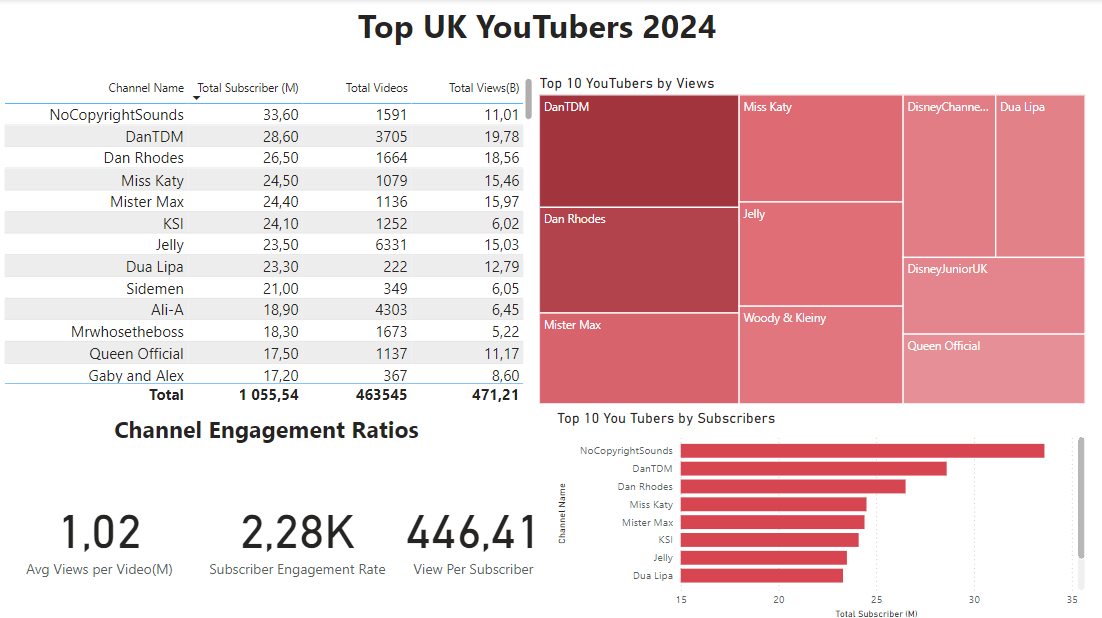

The page's visual inventory and layout, read from the dashboard file:
{"tool":"powerbi","page":{"name":"Page 1","canvas":[1280,720],"ordinal":0},"visuals":[{"type":"textbox","box":[354.5,0,532.4,86.2],"z":0},{"type":"tableEx","fields":{"Values":["view_uk_youtubers_2024.channel_name","view_uk_youtubers_2024.Total Subscriber (M)","view_uk_youtubers_2024.Total Videos","view_uk_youtubers_2024.Total Views"]},"box":[0,86.5,620.4,385.7],"z":1000},{"type":"treemap","title":"Top 10 YouTubers by Views","fields":{"Group":["view_uk_youtubers_2024.channel_name"],"Values":["view_uk_youtubers_2024.Total Views(B)"]},"box":[618.9,86.5,639.4,385.7],"z":2000},{"type":"card","fields":{"Values":["view_uk_youtubers_2024.Avg Views per Video"]},"box":[0,517.7,231.7,202.4],"z":2001},{"type":"card","fields":{"Values":["view_uk_youtubers_2024.Subscriber Engagement Rate"]},"box":[231.7,517.7,224.4,202.4],"z":2002},{"type":"card","fields":{"Values":["view_uk_youtubers_2024.View Per Subscriber"]},"box":[456.1,517.7,183.3,202.4],"z":2003},{"type":"clusteredBarChart","title":"Top 10 You Tubers by Subscribers","fields":{"Category":["view_uk_youtubers_2024.channel_name"],"Y":["view_uk_youtubers_2024.Total Subscriber (M)"]},"box":[639.4,472.2,618.9,247.8],"z":2004},{"type":"textbox","box":[99.7,472.2,418,89.5],"z":2005}]}

Visuals, with their boxes in screenshot pixels (x1, y1, x2, y2), scaled from the page's 1280x720 canvas onto the 1102x618 screenshot:
textbox: {"x1": 305, "y1": 0, "x2": 764, "y2": 74}
tableEx - view_uk_youtubers_2024.channel_name x view_uk_youtubers_2024.Total Subscriber (M): {"x1": 0, "y1": 74, "x2": 534, "y2": 405}
"Top 10 YouTubers by Views" treemap: {"x1": 533, "y1": 74, "x2": 1083, "y2": 405}
card - view_uk_youtubers_2024.Avg Views per Video: {"x1": 0, "y1": 444, "x2": 199, "y2": 617}
card - view_uk_youtubers_2024.Subscriber Engagement Rate: {"x1": 199, "y1": 444, "x2": 393, "y2": 617}
card - view_uk_youtubers_2024.View Per Subscriber: {"x1": 393, "y1": 444, "x2": 550, "y2": 617}
"Top 10 You Tubers by Subscribers" clusteredBarChart: {"x1": 550, "y1": 405, "x2": 1083, "y2": 617}
textbox: {"x1": 86, "y1": 405, "x2": 446, "y2": 482}
